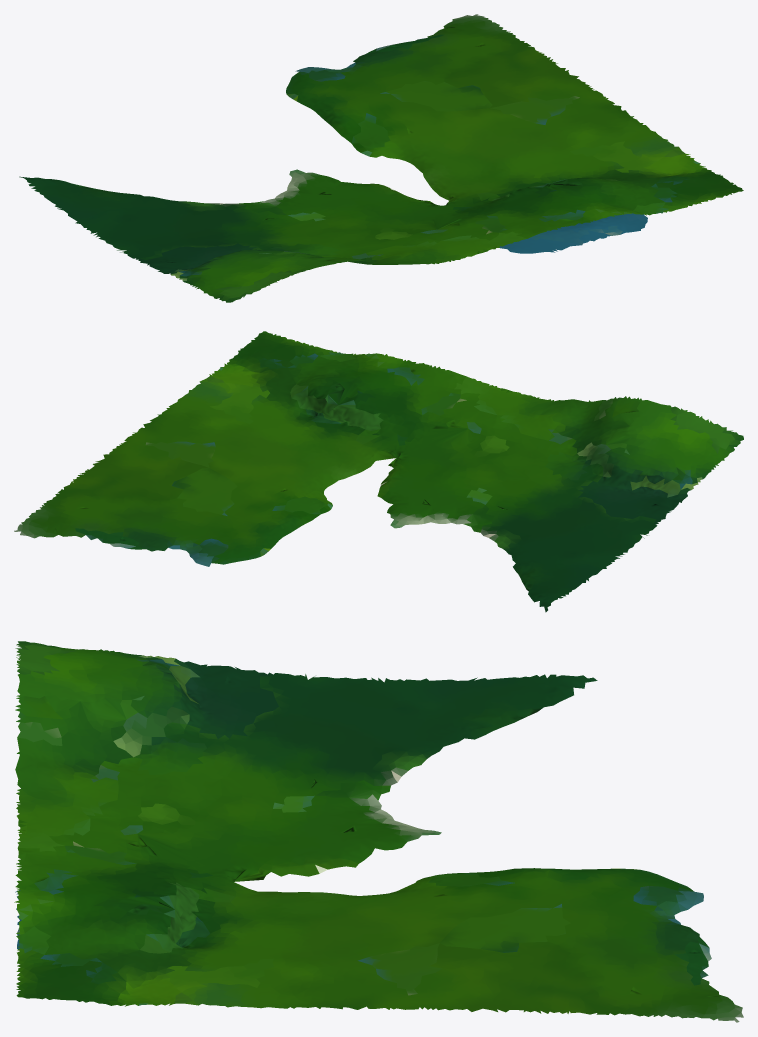
File: chunk_2_0_LOD0.glb
3 renders of one model, top to bottom at view 1: azimuth 30°, elevation 25°; view 2: azimuth 150°, elevation 25°; view 3: azimuth 270°, elevation 25°, orthographic. The views are drawn at different scales.
Visible parts, largest first — view 1: chunk_2_0_LOD0; view 2: chunk_2_0_LOD0; view 3: chunk_2_0_LOD0.
Boxes of the visible parts, bbox=[...] form: chunk_2_0_LOD0: bbox=[19, 14, 743, 302]; chunk_2_0_LOD0: bbox=[14, 331, 743, 612]; chunk_2_0_LOD0: bbox=[14, 641, 743, 1022].
Size of the model in its own units: 99.7 by 9.45 by 89.25.
1 material, 1 textured.
